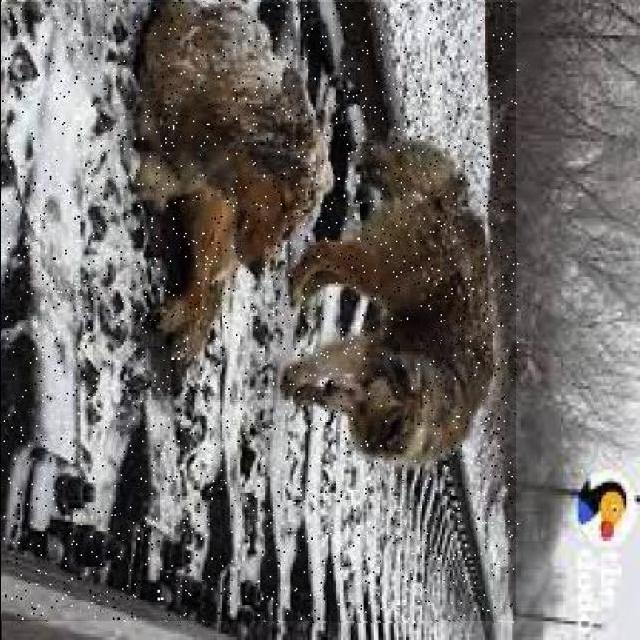rail: (2, 3, 517, 622)
